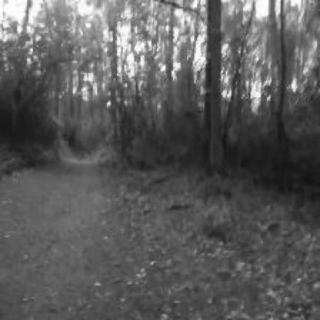other: (40, 39, 278, 103)
